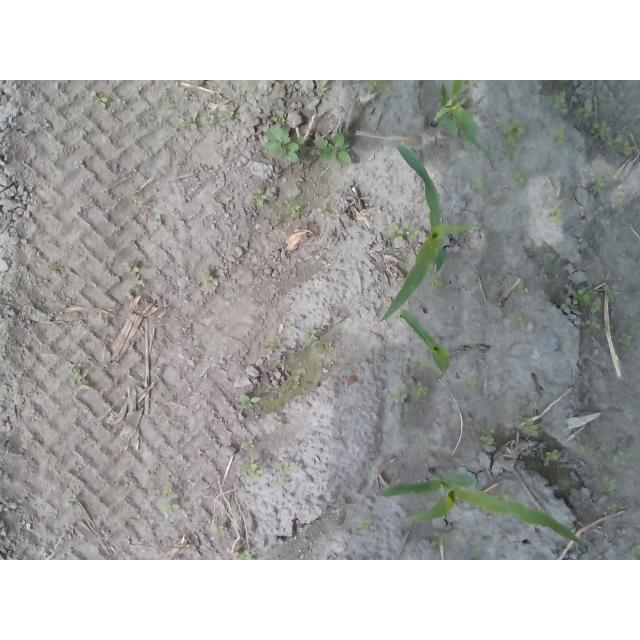Maize: (381, 144, 473, 326), (375, 467, 583, 545), (430, 80, 498, 172), (401, 309, 452, 380)
Weeds: (263, 124, 299, 164), (312, 131, 354, 165), (270, 200, 304, 224), (571, 289, 602, 315), (68, 360, 93, 392), (502, 120, 526, 148), (606, 136, 635, 159), (309, 330, 336, 354), (594, 166, 615, 191), (163, 485, 179, 515), (390, 226, 418, 243), (549, 198, 567, 223), (238, 392, 263, 410), (241, 463, 264, 482), (592, 120, 613, 139), (552, 87, 569, 110), (89, 89, 109, 108), (521, 418, 539, 438), (125, 258, 144, 275), (368, 80, 392, 93), (603, 282, 621, 299), (413, 381, 432, 397), (432, 530, 449, 547), (480, 429, 495, 448), (253, 187, 268, 206), (510, 312, 527, 328), (464, 378, 481, 394), (616, 331, 633, 347), (269, 113, 287, 128), (511, 169, 526, 187), (555, 127, 569, 145), (602, 475, 615, 494), (609, 451, 625, 466), (428, 276, 444, 291), (263, 338, 282, 350), (412, 359, 432, 370), (614, 189, 626, 207), (153, 207, 164, 226), (179, 119, 198, 130), (358, 520, 371, 535), (545, 449, 560, 462), (392, 392, 408, 404), (585, 318, 599, 331), (318, 82, 331, 95), (317, 206, 330, 219), (574, 445, 590, 455), (222, 108, 235, 120), (203, 114, 216, 125), (276, 461, 289, 472), (215, 525, 226, 537), (285, 323, 296, 335), (202, 268, 213, 280), (536, 269, 547, 279), (241, 549, 252, 559), (476, 185, 487, 195), (292, 374, 300, 386)
